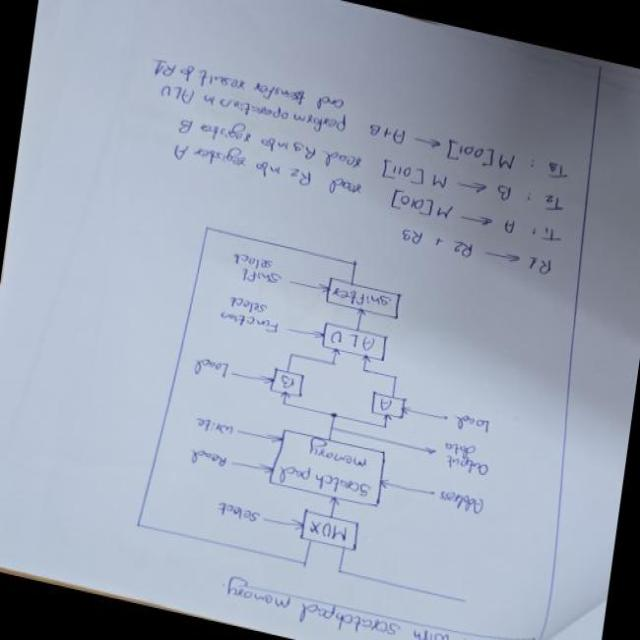Figure Detection - v3 Dataset Version2: (120, 195, 559, 636)
